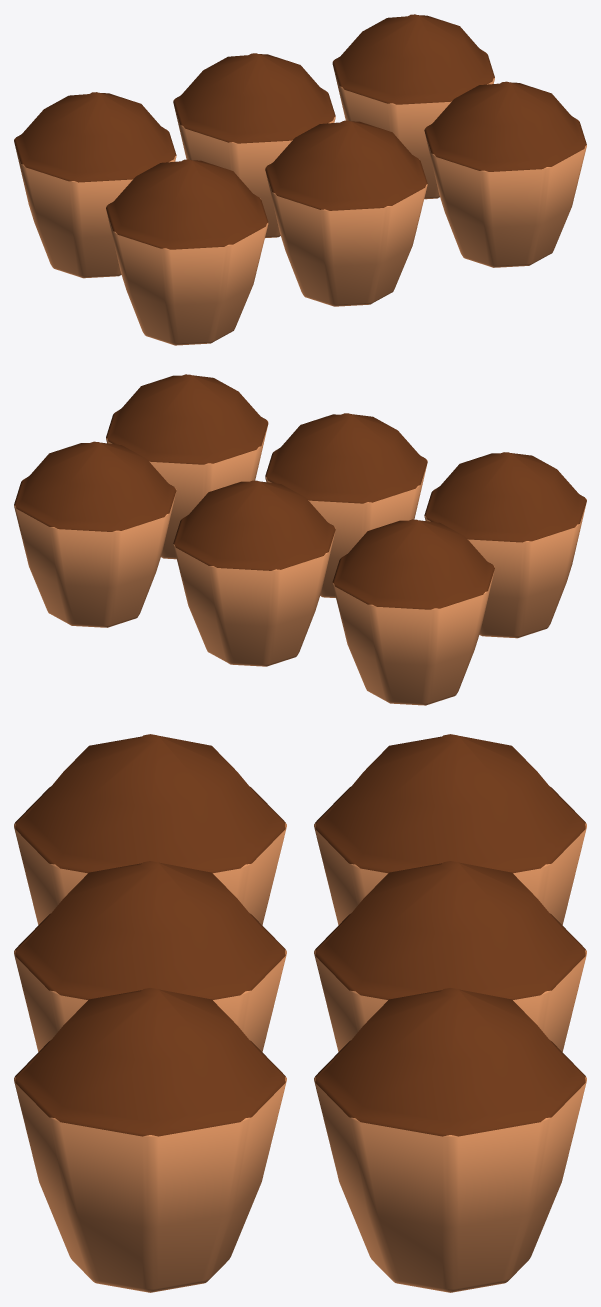
Rendered from Dessert_1_2.fbx.
3 views of the same model, one above another, from view 1: azimuth 30°, elevation 25°; view 2: azimuth 150°, elevation 25°; view 3: azimuth 270°, elevation 25° (orthographic). The views are drawn at different scales.
Parts seen in each view (by area): view 1: Dessert_1_2; view 2: Dessert_1_2; view 3: Dessert_1_2.
Part boxes in pixels (x1,y1,x2,y2): Dessert_1_2: (14,14,586,345); Dessert_1_2: (14,374,586,705); Dessert_1_2: (14,734,586,1292).
Bounding box in the file's own units: 14.94 × 5.1 × 9.81.
